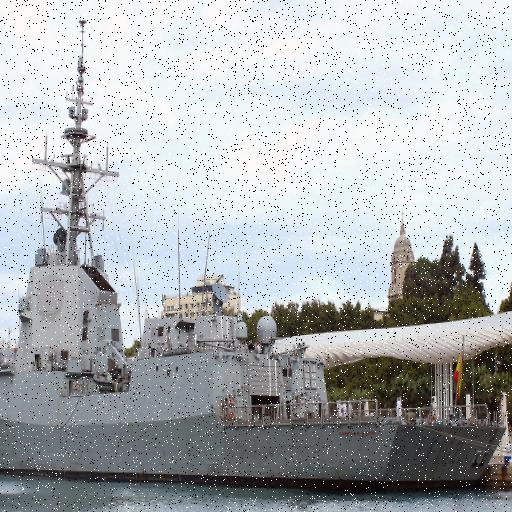Fragata: (1, 4, 507, 480)
